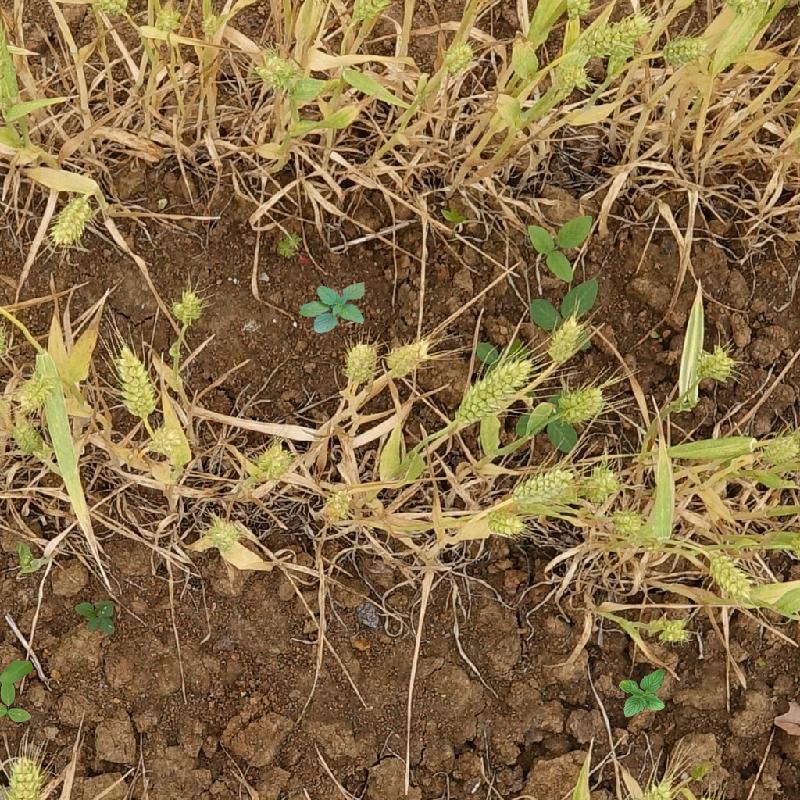spikelet: (449, 349, 537, 428), (112, 342, 159, 419), (576, 10, 653, 57), (507, 461, 578, 507), (704, 548, 757, 603), (48, 192, 95, 248), (551, 381, 609, 425), (543, 310, 588, 363), (384, 332, 433, 379), (255, 47, 301, 92), (3, 751, 46, 799), (340, 336, 381, 386), (14, 369, 59, 413), (692, 342, 738, 385), (659, 30, 711, 68), (253, 438, 295, 481), (550, 52, 593, 94), (203, 511, 246, 552), (580, 462, 622, 503), (316, 483, 356, 526), (756, 428, 800, 465), (482, 506, 529, 540), (439, 37, 478, 76), (169, 285, 204, 326), (8, 417, 43, 457), (144, 422, 181, 458), (605, 506, 646, 537), (656, 614, 694, 646), (348, 1, 400, 23), (628, 777, 677, 799), (88, 1, 131, 17), (559, 1, 596, 19), (1, 313, 10, 362)
weed: (532, 214, 598, 279), (299, 282, 365, 333), (1, 660, 34, 728), (619, 669, 665, 717), (74, 599, 124, 637), (10, 545, 48, 578), (277, 235, 304, 259)
